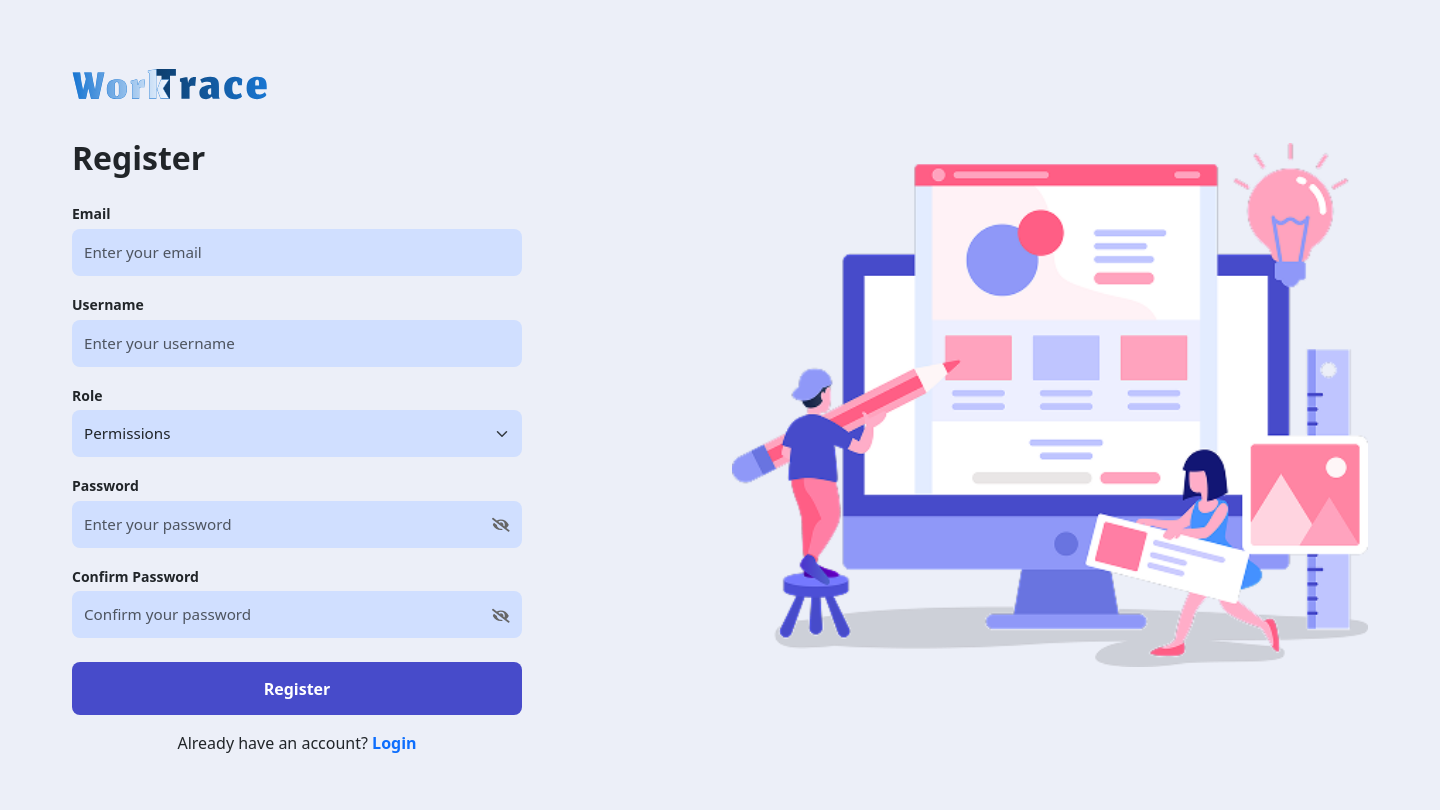
Test: RegisterForm › shows an error if passwords do not match
The width and height of the screenshot is (1440, 810).
In the field labelled "Email": (297, 252) [72,229,522,276], type "test@test.com"
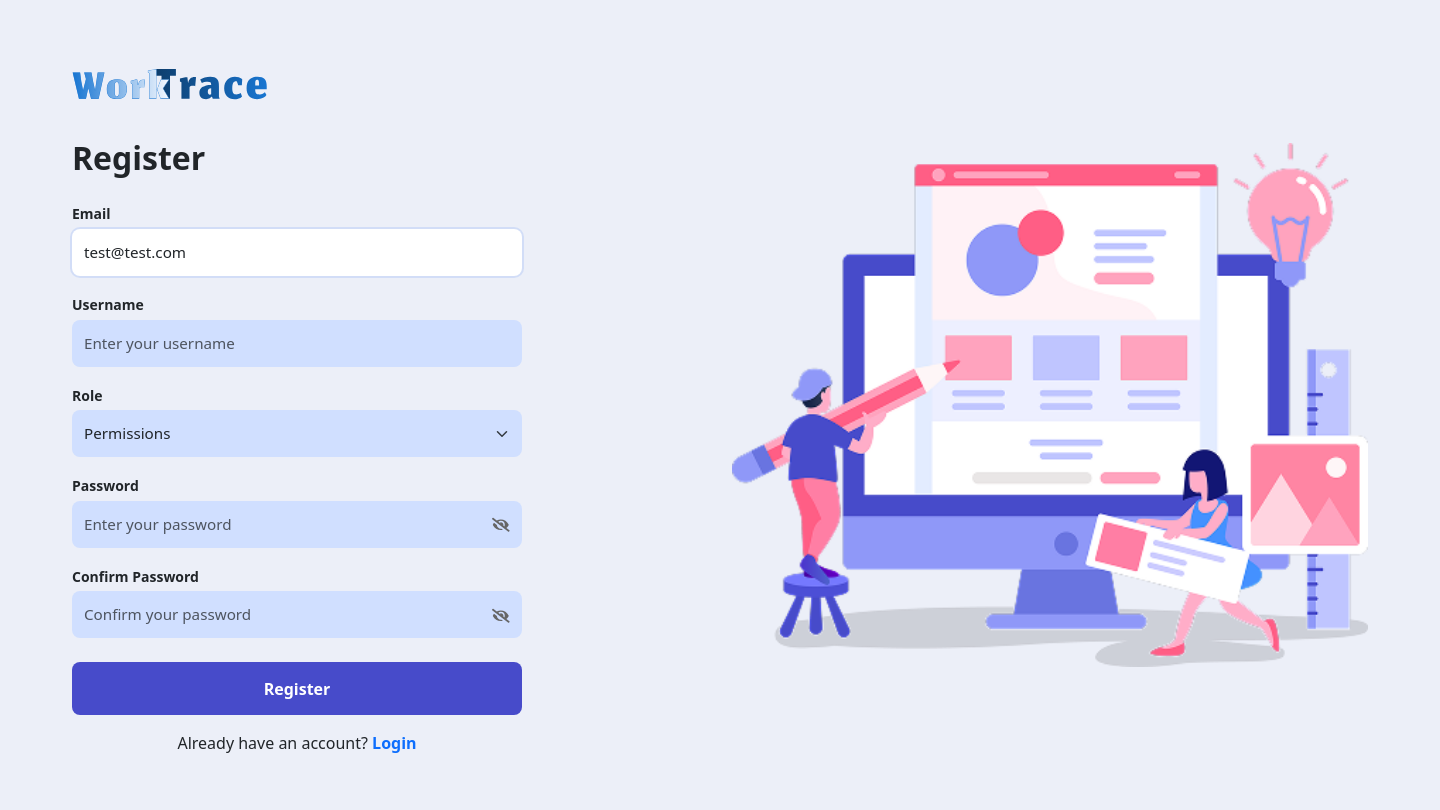
In the field labelled "Username": (297, 343) [72,320,522,366], type "tester"
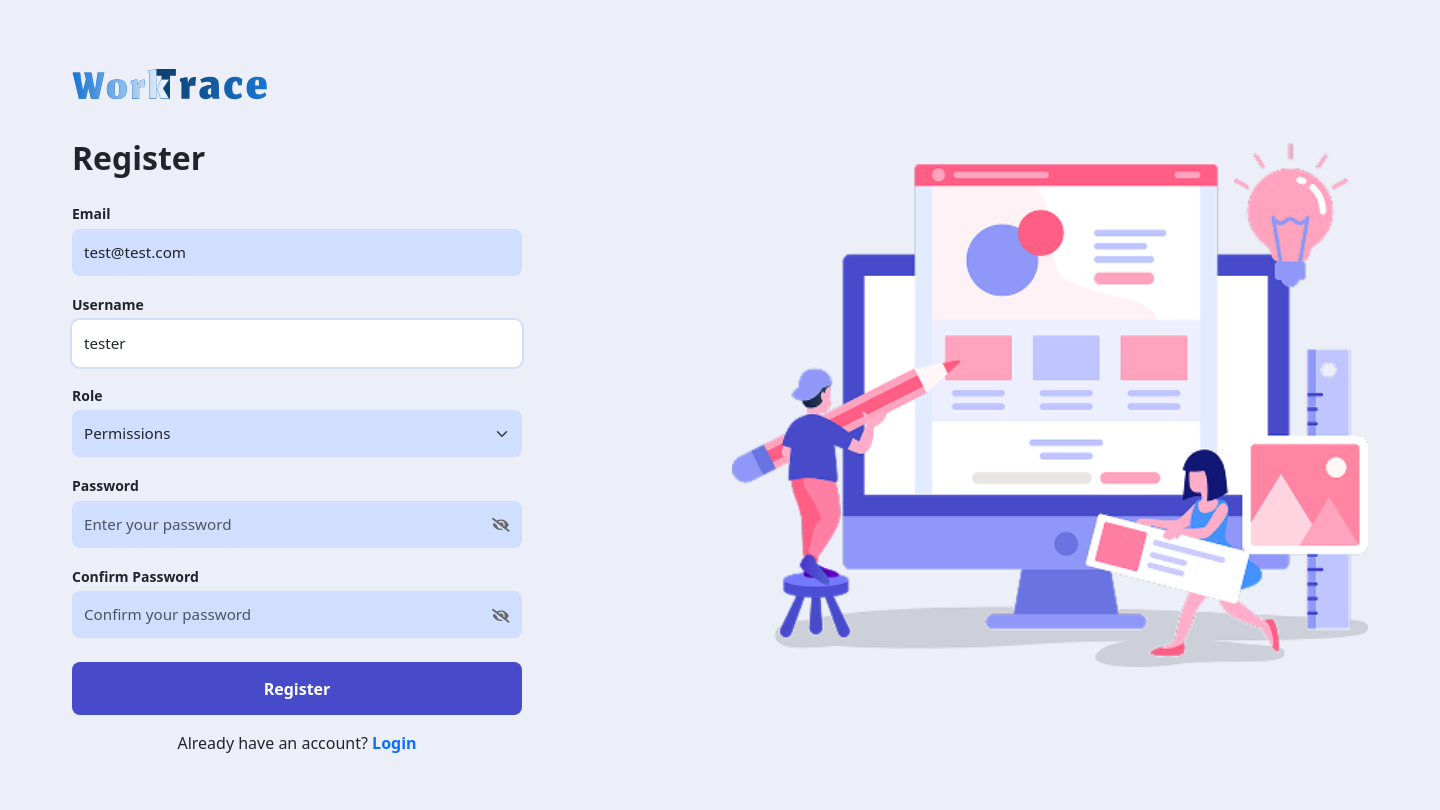
Select "Student" in the dropdown labelled "Role": (297, 434) [72,410,522,457]
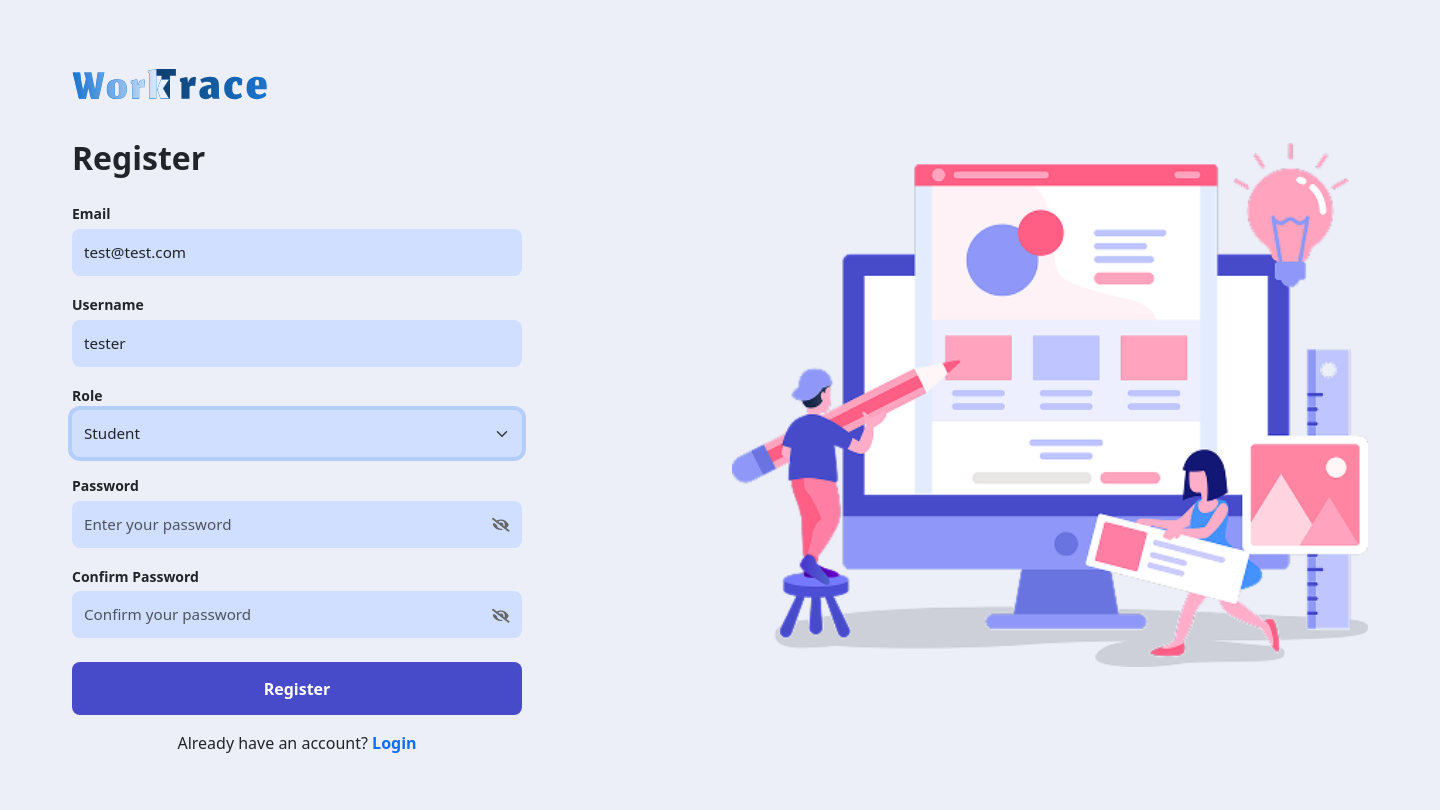
In the password field labelled "Password": (297, 524) [72,501,522,548], type "password123"
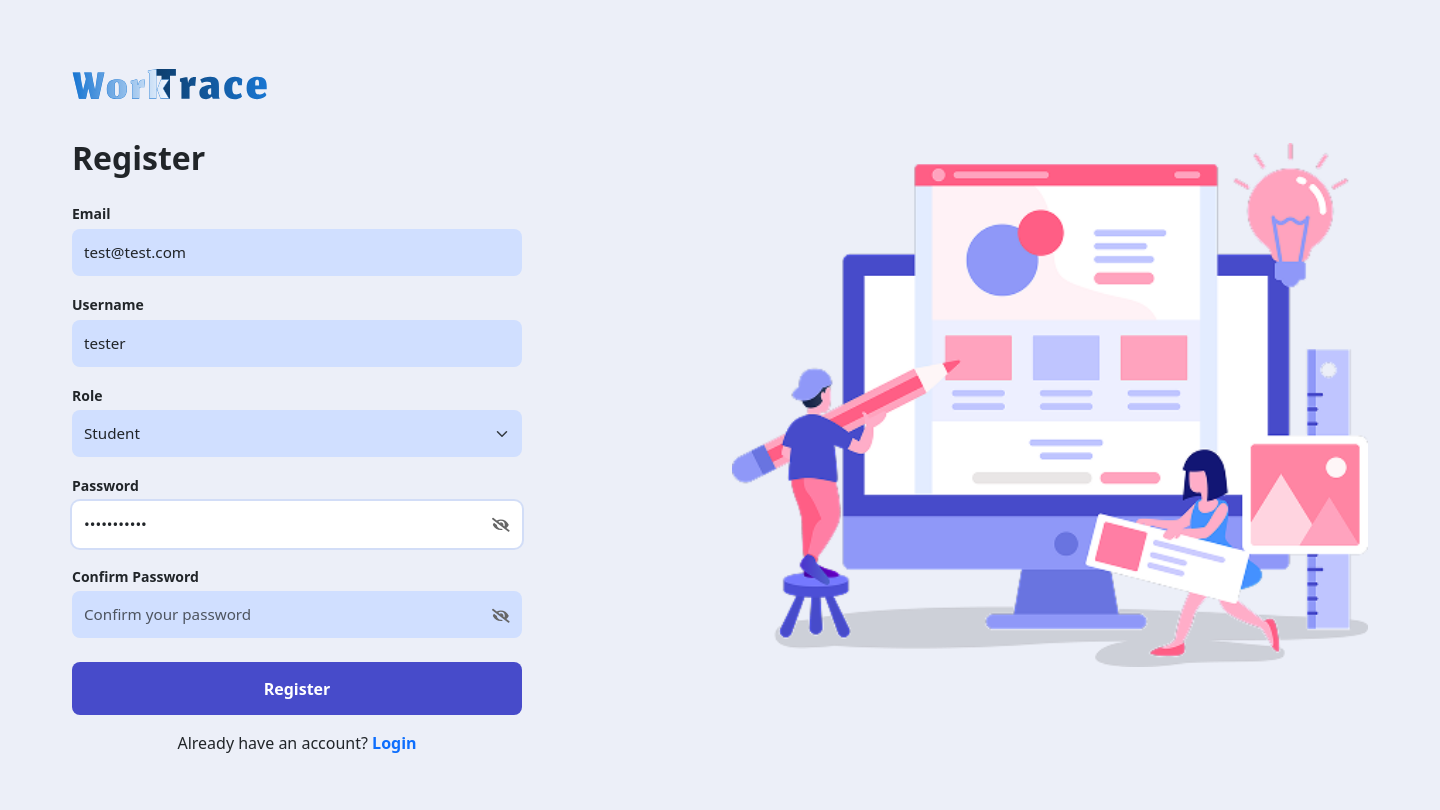
In the password field labelled "Confirm Password": (297, 615) [72,592,522,638], type "password456"
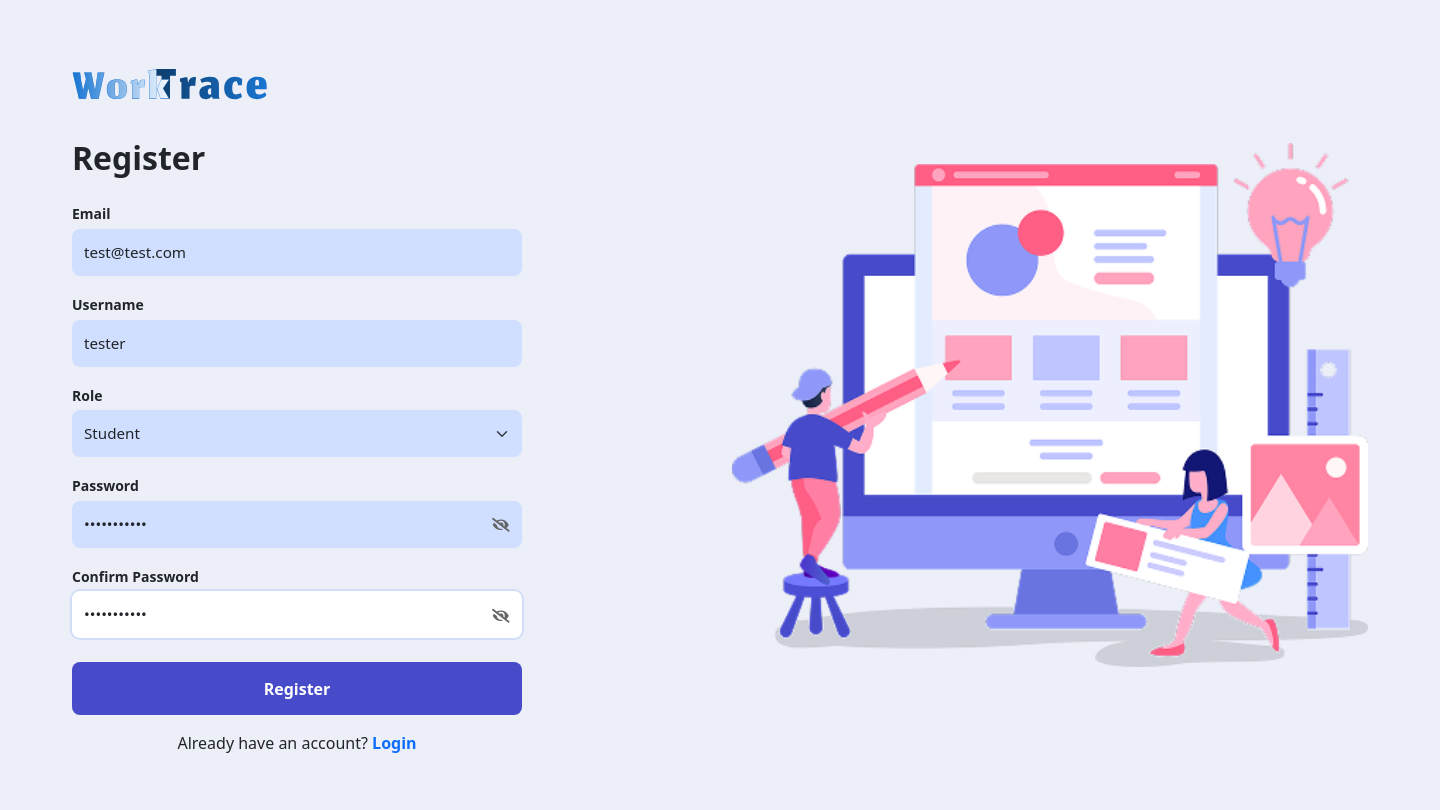
Click the button "Register": (297, 689) [72,662,522,715]
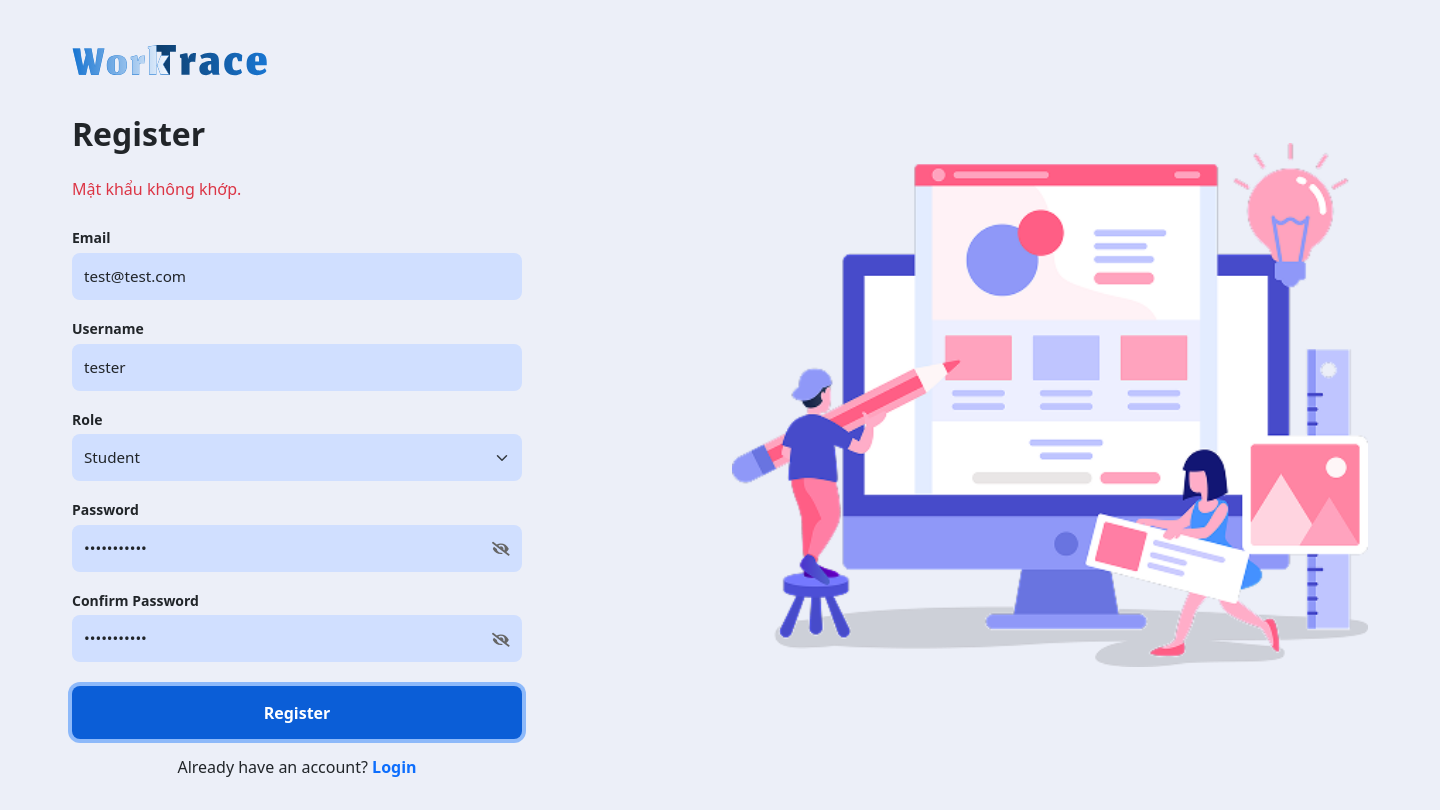
Expected: the text "Mật khẩu không khớp." is shown, [72,178,241,200]
